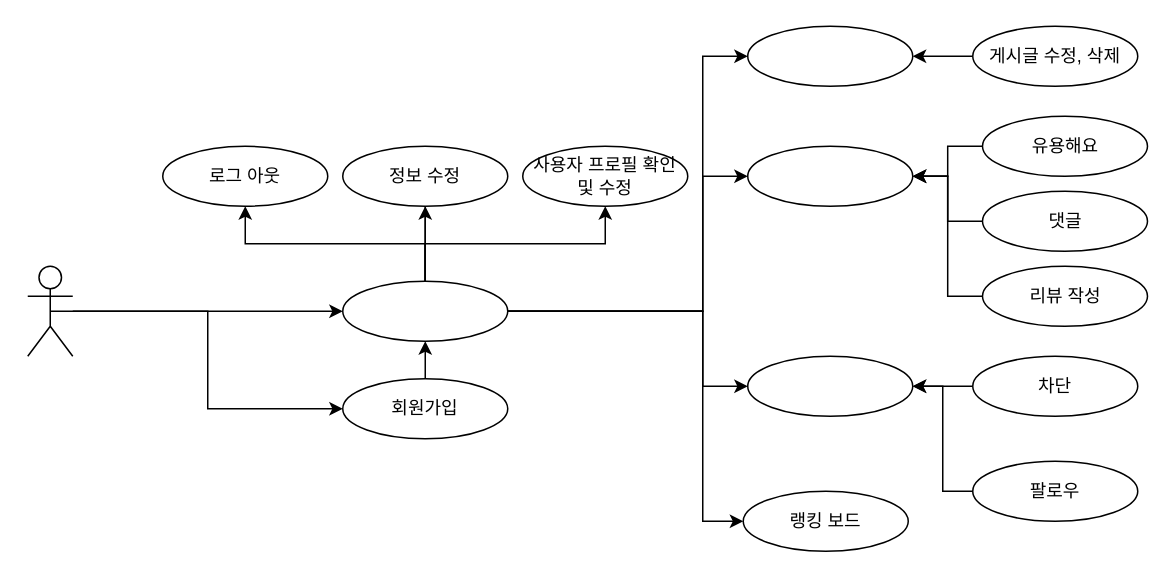
The diagram is 1175 pixels wide and 578 high, and some of its shapes have lost their labels. The shapes that lost their labels are listed below. From the top down, each one's centre as x and y in pixels, then its label:
the point at 829,55: 게시글 등록
the point at 829,175: 게시글 조회
the point at 49,310: 사용자
the point at 424,310: 로그인
the point at 829,385: 다른 사용자 검색
